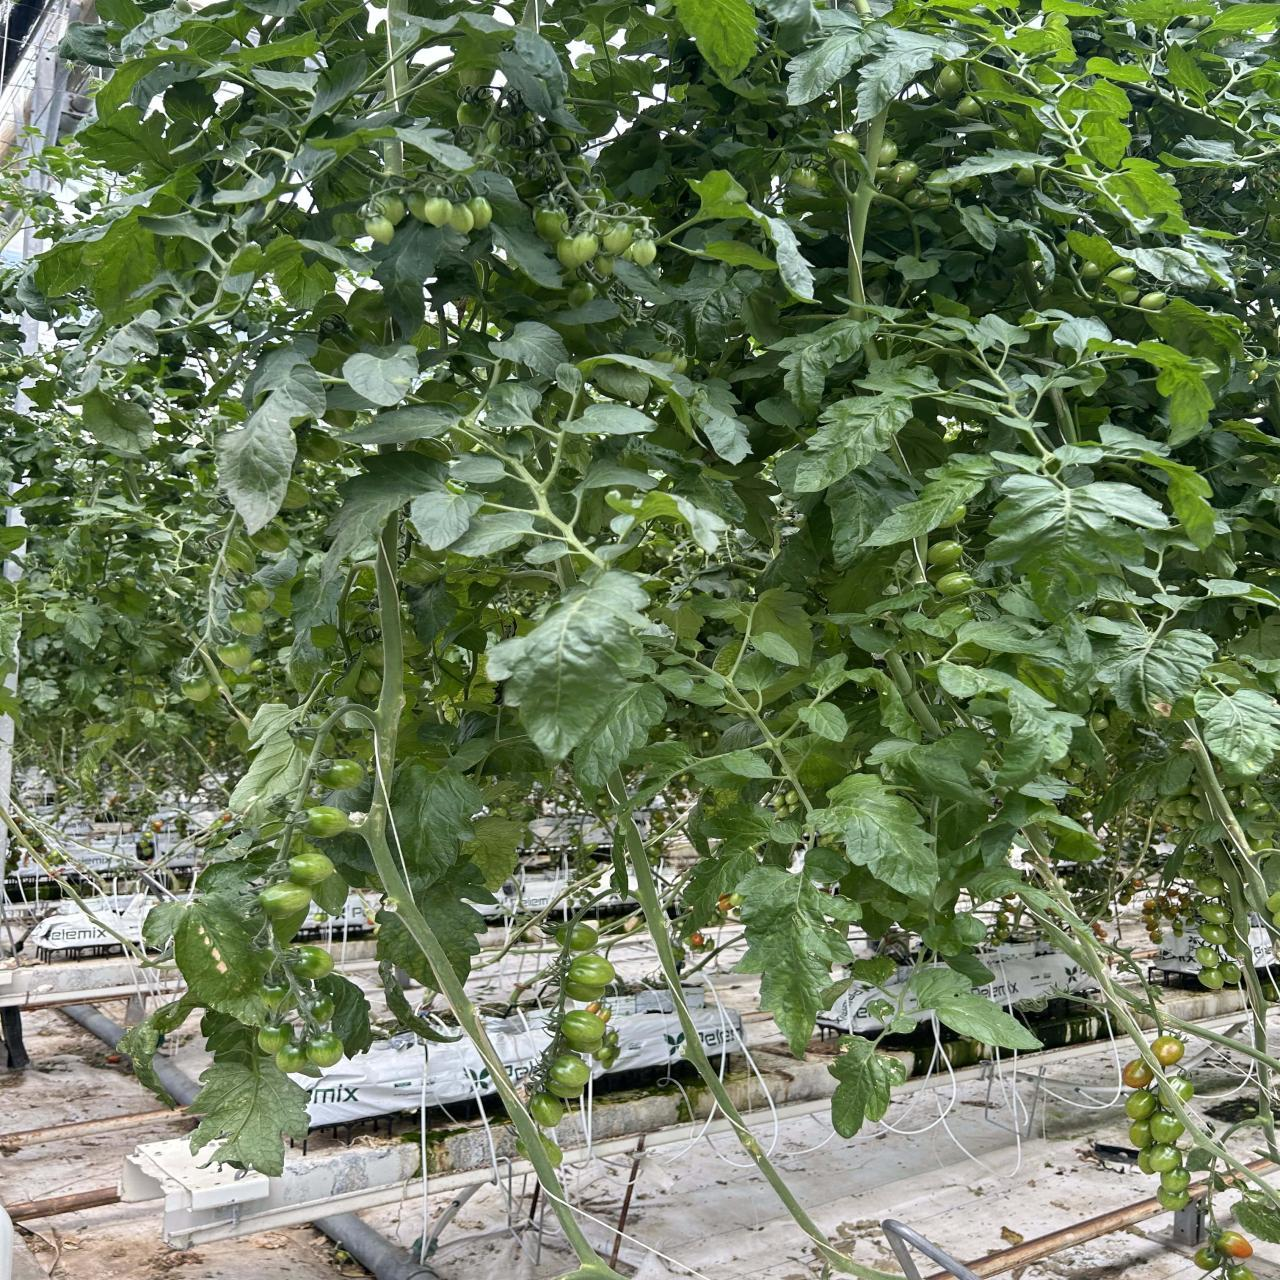Hoja: (986, 472, 1166, 620), (218, 346, 326, 533), (35, 215, 220, 322), (321, 451, 448, 581), (1119, 340, 1218, 444), (857, 30, 967, 121), (787, 25, 887, 104), (95, 46, 200, 120), (79, 309, 161, 395), (673, 0, 758, 80), (76, 107, 173, 170), (342, 342, 418, 407), (340, 406, 461, 445), (82, 388, 154, 455), (489, 321, 568, 379), (410, 490, 483, 550), (311, 50, 369, 117), (450, 512, 535, 557), (560, 404, 656, 435), (485, 381, 542, 428), (163, 80, 216, 124)
Hoja rugoso: (486, 571, 655, 762), (736, 866, 853, 1054), (191, 1012, 308, 1176), (811, 774, 938, 899), (852, 455, 999, 549), (794, 394, 911, 493), (771, 319, 878, 411), (572, 685, 666, 789), (1193, 688, 1280, 781), (829, 1036, 905, 1138), (416, 881, 486, 985), (376, 910, 435, 986)
Pedunculo: (359, 520, 600, 1268), (626, 839, 840, 1269), (846, 100, 888, 319), (1022, 898, 1110, 993), (885, 649, 940, 737), (384, 0, 418, 100), (384, 142, 400, 173)
Tomate: (565, 954, 615, 1000), (545, 1054, 590, 1097), (560, 1010, 606, 1053), (1146, 1075, 1194, 1115), (557, 232, 598, 268), (1156, 1169, 1190, 1211), (530, 1092, 565, 1128), (1149, 1111, 1184, 1144), (535, 210, 567, 245), (401, 557, 441, 585), (251, 523, 288, 552), (1125, 1090, 1158, 1122), (933, 64, 962, 97), (935, 571, 973, 595), (423, 197, 454, 226), (375, 195, 406, 224), (217, 642, 251, 668), (365, 216, 395, 244), (1145, 1143, 1175, 1171), (927, 540, 962, 564), (626, 239, 656, 266), (468, 197, 492, 230), (570, 922, 598, 951), (244, 584, 273, 611), (230, 611, 263, 634), (448, 204, 474, 233), (182, 678, 212, 702), (1105, 266, 1137, 287), (361, 641, 382, 672), (892, 161, 919, 184), (1129, 1121, 1151, 1149), (1198, 924, 1228, 944), (1199, 904, 1230, 924), (1137, 291, 1167, 311), (1198, 967, 1225, 989), (877, 139, 898, 168), (358, 668, 380, 694), (1197, 945, 1220, 968), (407, 192, 425, 222), (1218, 961, 1242, 983), (955, 95, 980, 117), (1196, 877, 1223, 897), (832, 131, 858, 151), (791, 168, 817, 188), (593, 253, 614, 277)
Tomate Rugoso: (259, 883, 311, 919), (290, 851, 335, 886), (306, 1032, 343, 1068), (306, 806, 349, 837), (293, 946, 333, 979), (320, 758, 362, 789), (275, 1041, 311, 1073), (1150, 1036, 1184, 1067), (1218, 1231, 1253, 1260), (1122, 1058, 1153, 1089), (602, 223, 633, 253), (1162, 1169, 1191, 1196), (258, 1026, 282, 1054), (1193, 1247, 1221, 1271), (1178, 1199, 1187, 1206)
